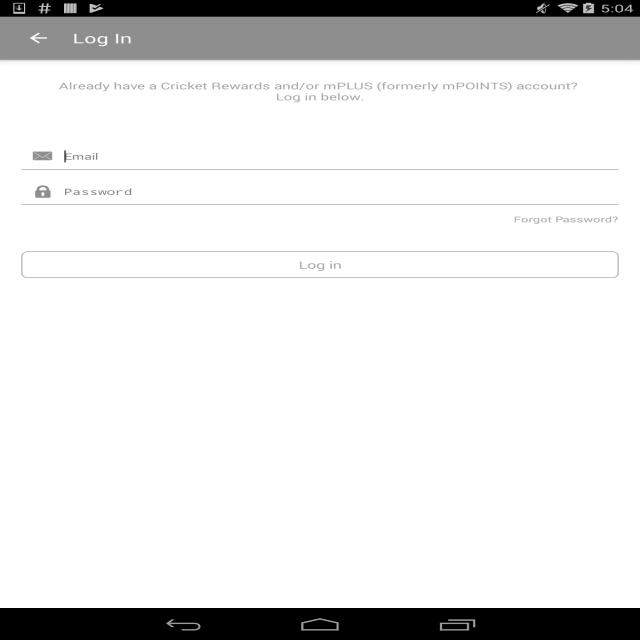Button: (21, 251, 619, 278)
EditText: (64, 143, 619, 170), (64, 178, 619, 205)
ImageButton: (9, 19, 68, 57)
ImageView: (32, 150, 53, 163), (32, 185, 53, 198)
TextView: (21, 79, 619, 103), (514, 213, 618, 224), (73, 29, 132, 47)
